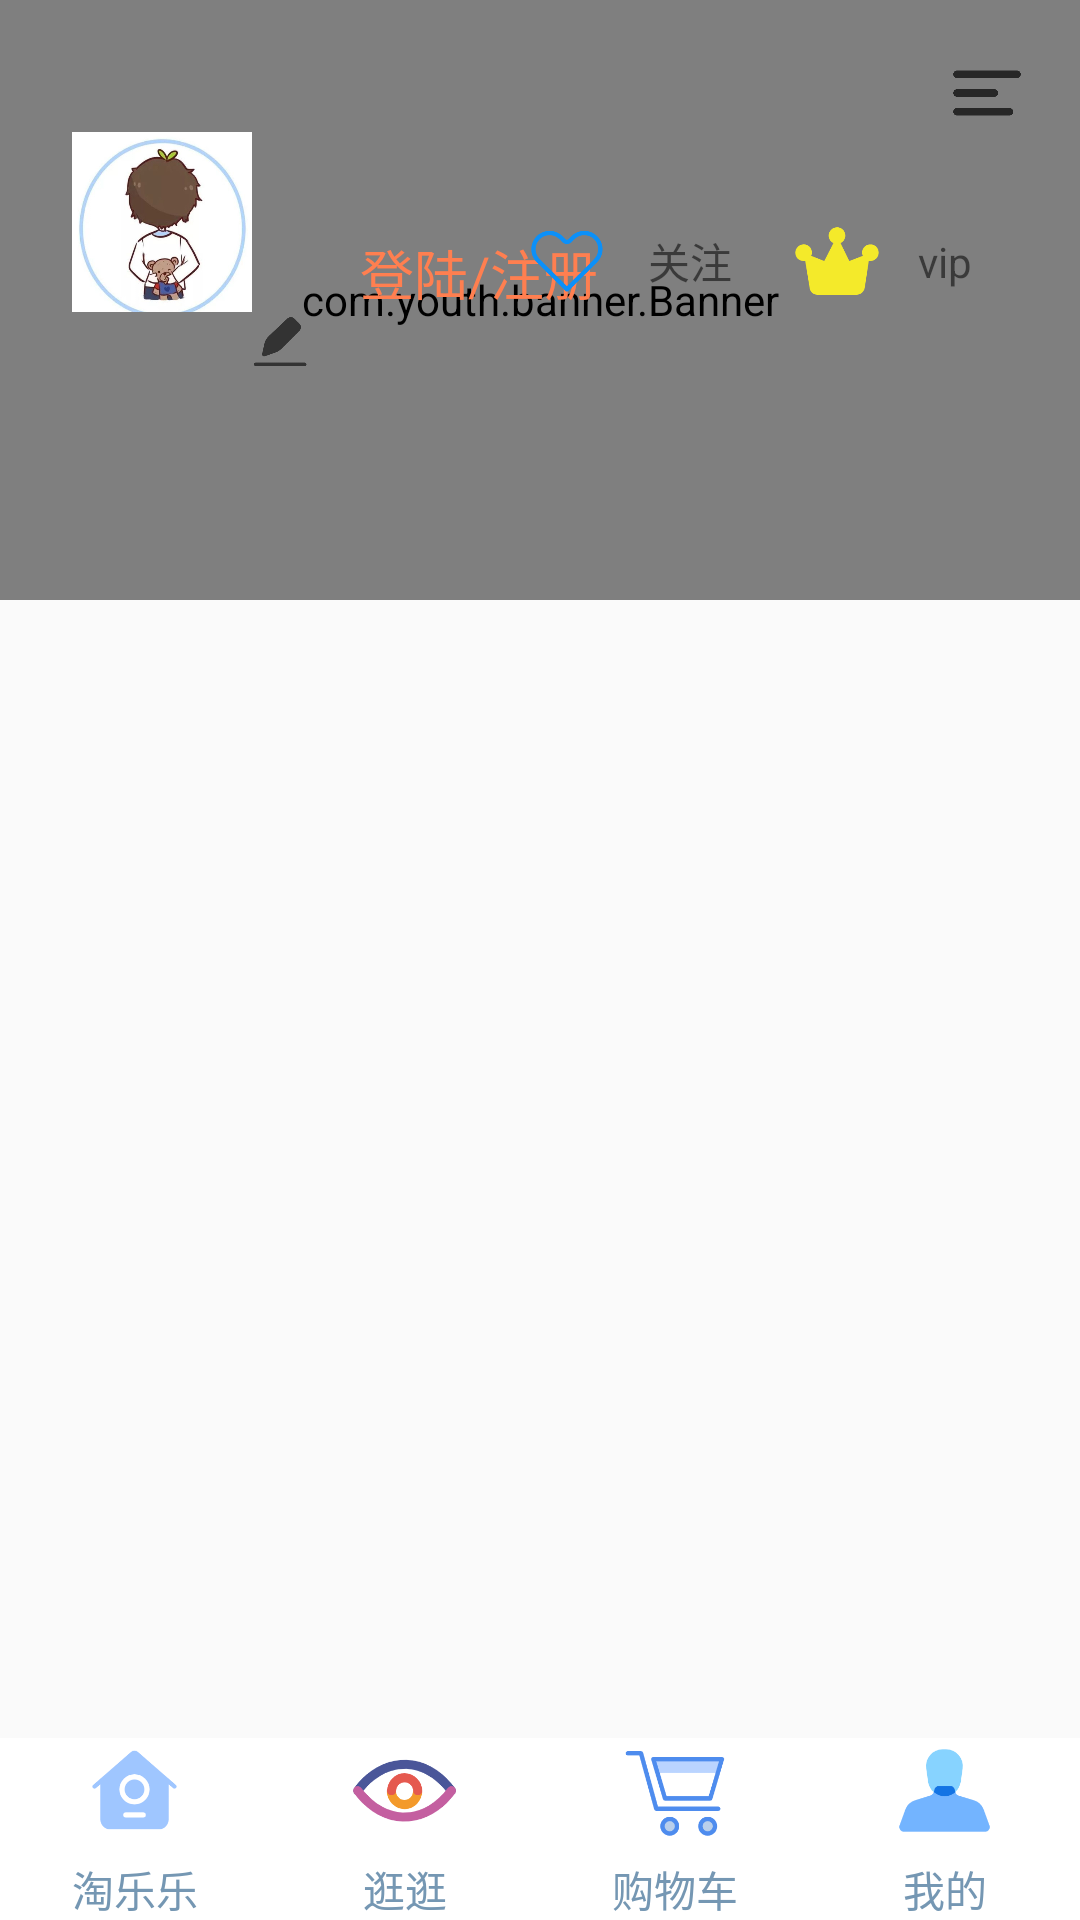

Named icons in this screenshot (1080 × 1920) and their centers, [x,y]:
caidan: [987,93]
qianming: [280,341]
touxiang: [162,222]
vip on: [837,261]
